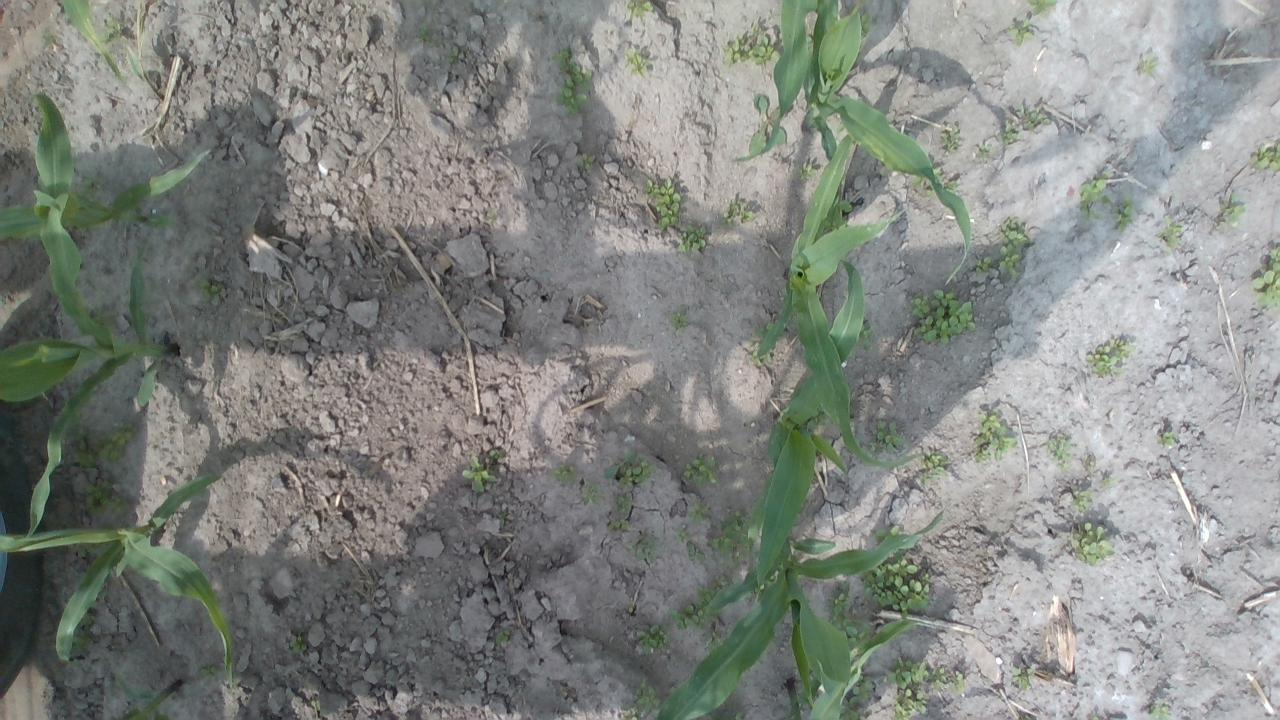Maize: (0, 194, 175, 551), (659, 512, 943, 720), (755, 132, 919, 472), (0, 472, 239, 682), (801, 0, 972, 281), (745, 256, 865, 589), (0, 98, 212, 234), (784, 619, 923, 720), (739, 0, 814, 160), (58, 0, 146, 85), (115, 679, 178, 720)
Weeds: (860, 554, 931, 619), (63, 423, 137, 473), (912, 288, 976, 344), (709, 511, 760, 568), (552, 49, 594, 118), (720, 19, 779, 65), (748, 94, 788, 158), (975, 410, 1018, 464), (644, 176, 682, 231), (1070, 523, 1116, 568), (998, 215, 1029, 279), (606, 449, 657, 487), (1086, 336, 1134, 376), (84, 480, 130, 519), (1080, 168, 1112, 221), (623, 676, 661, 720), (1253, 248, 1280, 307), (872, 417, 912, 454), (886, 655, 929, 689), (462, 456, 498, 494), (682, 452, 720, 488), (824, 582, 851, 630), (894, 688, 930, 720), (671, 602, 706, 634), (1155, 216, 1182, 256), (1219, 192, 1247, 230), (78, 175, 110, 208), (1048, 434, 1075, 473), (919, 448, 948, 484), (677, 222, 708, 255), (638, 624, 671, 654), (842, 618, 871, 652), (1249, 142, 1280, 173), (720, 198, 752, 228), (97, 14, 126, 46), (622, 48, 652, 78), (194, 277, 224, 306), (930, 666, 964, 691), (1112, 198, 1134, 234), (70, 614, 92, 650), (93, 304, 119, 334), (849, 675, 874, 705), (633, 534, 659, 561), (1008, 18, 1032, 47), (1022, 106, 1050, 130), (624, 0, 656, 20), (858, 320, 876, 352), (552, 463, 577, 486), (581, 479, 603, 505), (1010, 666, 1033, 690), (414, 22, 435, 48), (940, 125, 961, 150), (686, 502, 712, 522), (999, 124, 1024, 144), (288, 632, 308, 656), (1028, 0, 1056, 17), (874, 525, 902, 542), (695, 584, 716, 606), (1072, 490, 1094, 511), (1136, 55, 1157, 76), (574, 151, 596, 171), (198, 663, 220, 682), (612, 495, 634, 514), (752, 321, 774, 338), (798, 162, 818, 180), (1156, 431, 1176, 448), (706, 632, 721, 654), (41, 31, 58, 50), (838, 705, 859, 720), (686, 543, 704, 560), (975, 255, 993, 272), (496, 628, 512, 646), (712, 574, 728, 592), (1152, 704, 1170, 720), (752, 350, 774, 363), (672, 312, 688, 329), (672, 528, 688, 544), (446, 47, 458, 66), (911, 176, 928, 189), (608, 519, 630, 529), (114, 672, 126, 690), (838, 199, 852, 214), (487, 448, 503, 460), (1084, 456, 1096, 472), (806, 34, 816, 52), (976, 144, 991, 156), (945, 181, 960, 192), (310, 698, 322, 710), (1102, 477, 1116, 486), (174, 391, 184, 401), (499, 510, 506, 524), (734, 711, 744, 720), (934, 166, 942, 176), (231, 670, 239, 680), (927, 190, 936, 198)
